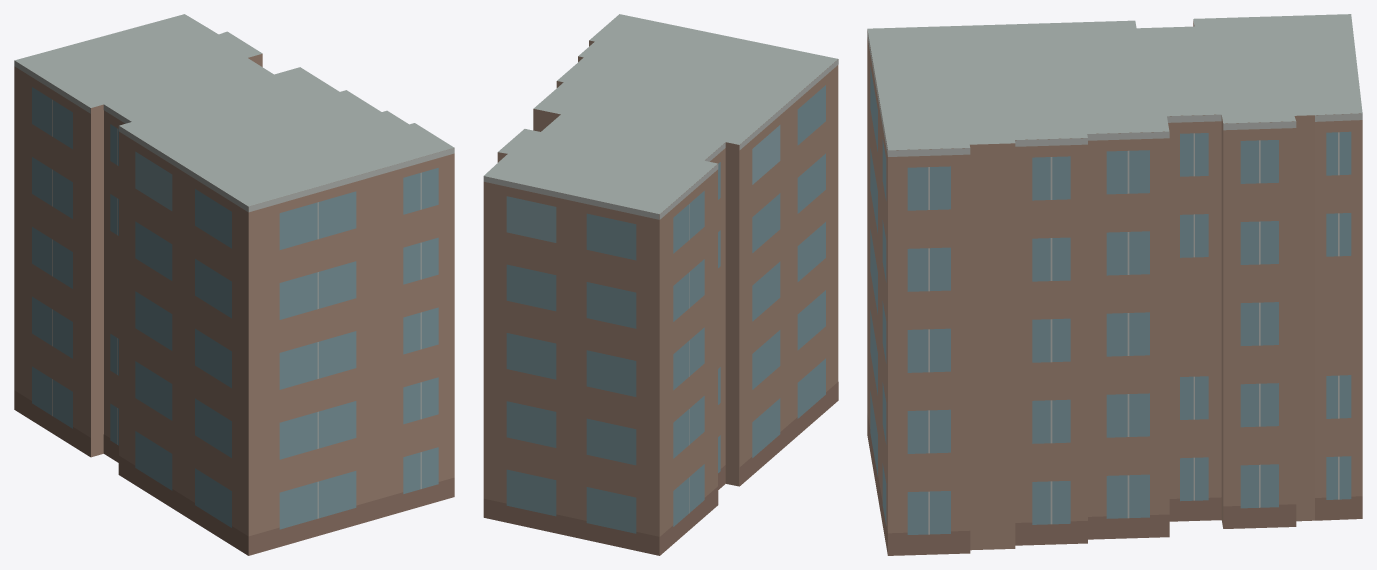
File: survey-upis-32872580.glb
3 views of the same model, side by side, from view 1: azimuth 30°, elevation 25°; view 2: azimuth 150°, elevation 25°; view 3: azimuth 270°, elevation 25° (orthographic). The views are drawn at different scales.
Visible parts, largest first — view 1: survey-upis-32872580.tmp; view 2: survey-upis-32872580.tmp; view 3: survey-upis-32872580.tmp.
Part boxes in pixels (box(x1,y1,x2,y2)): survey-upis-32872580.tmp: box(14, 14, 454, 555); survey-upis-32872580.tmp: box(483, 14, 838, 555); survey-upis-32872580.tmp: box(867, 14, 1362, 555).
Size of the model in its own units: 10.61 by 14.7 by 16.28.
